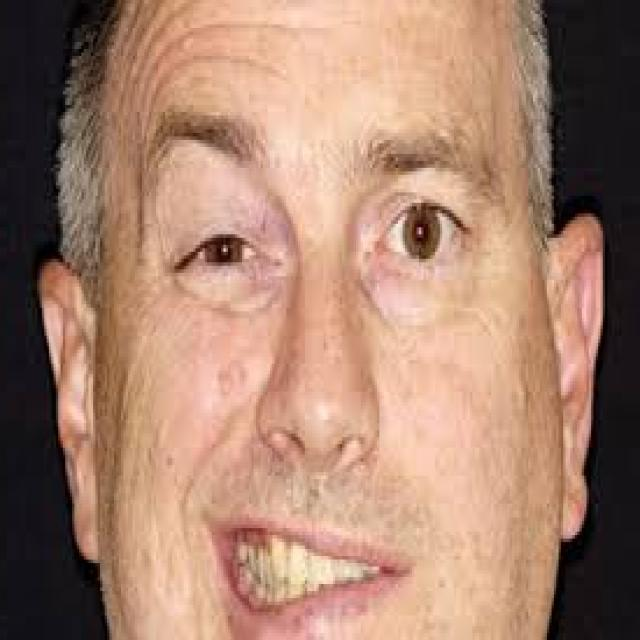stroke_face: (95, 0, 558, 640)
